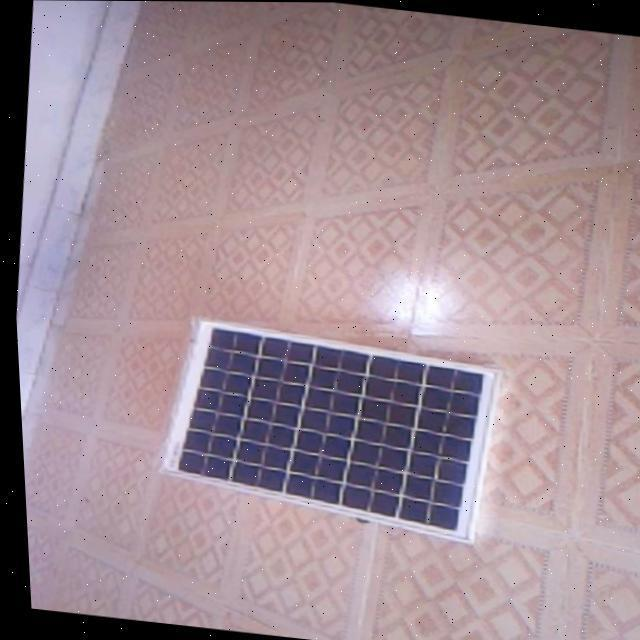Normal Solar Panel: (143, 315, 504, 545)
